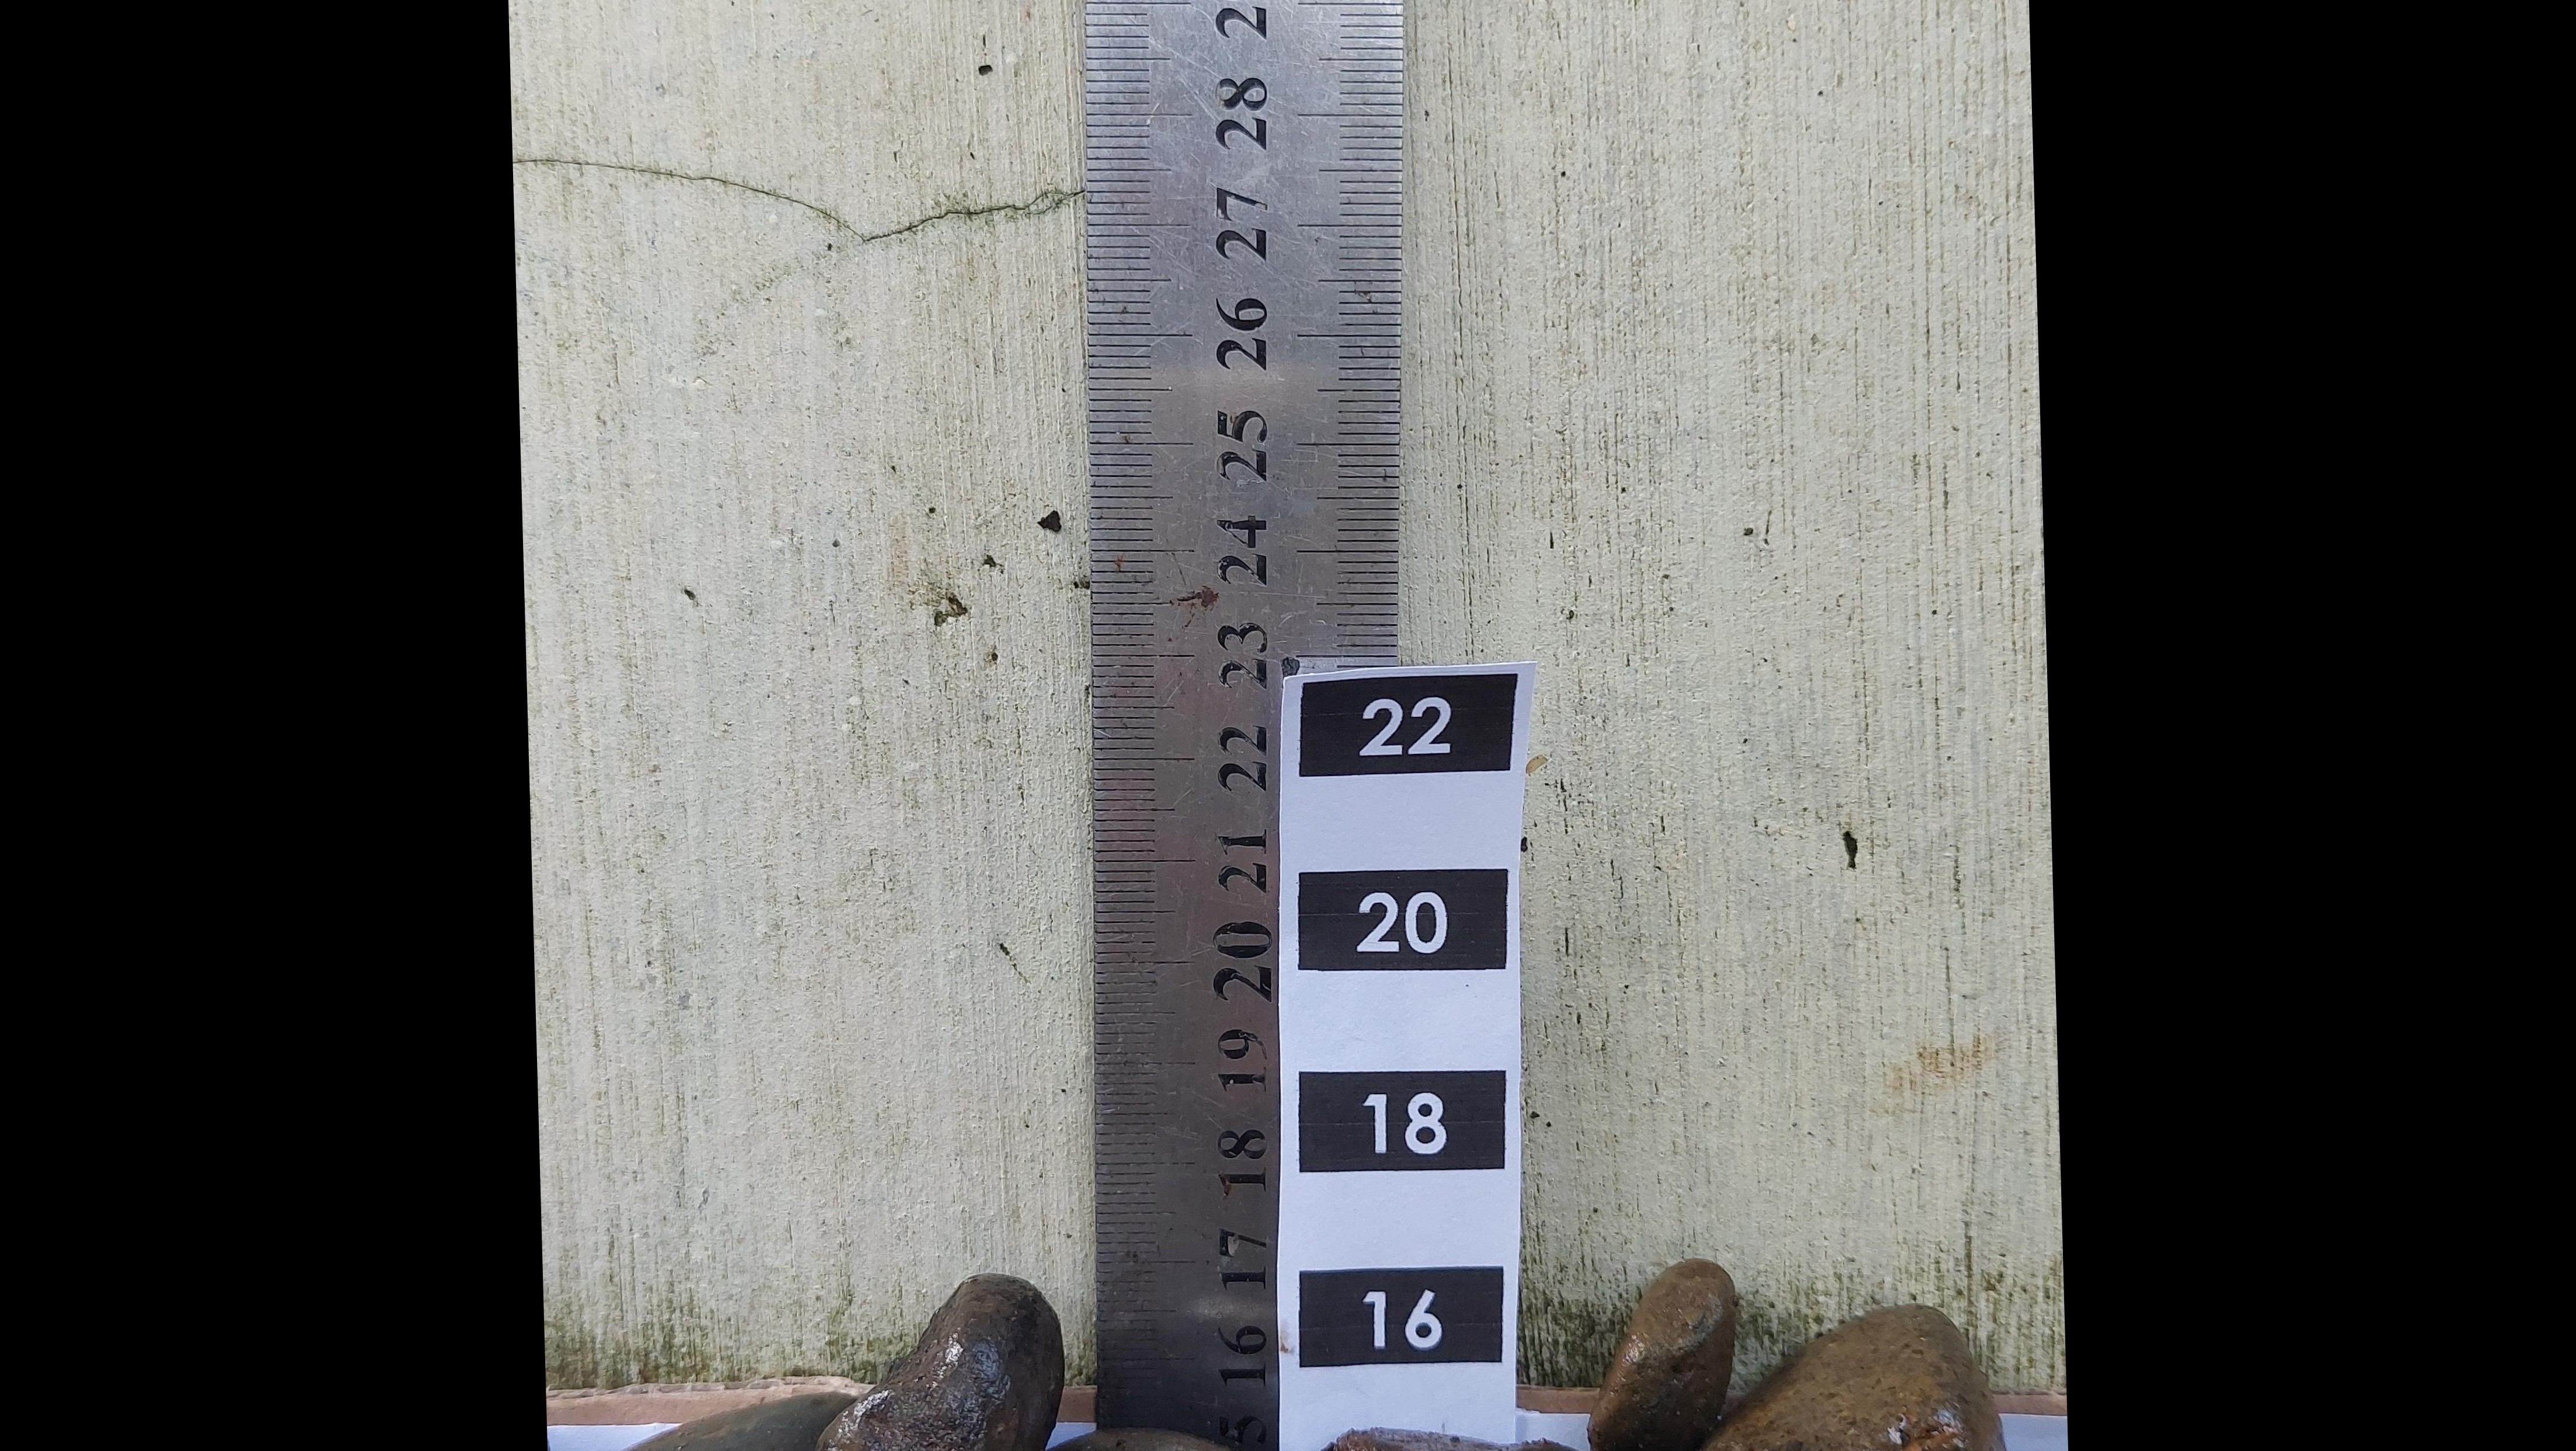kotak_2x1: (1300, 867, 1509, 971), (1299, 1071, 1504, 1170), (1302, 681, 1511, 777), (1297, 1265, 1500, 1363)
